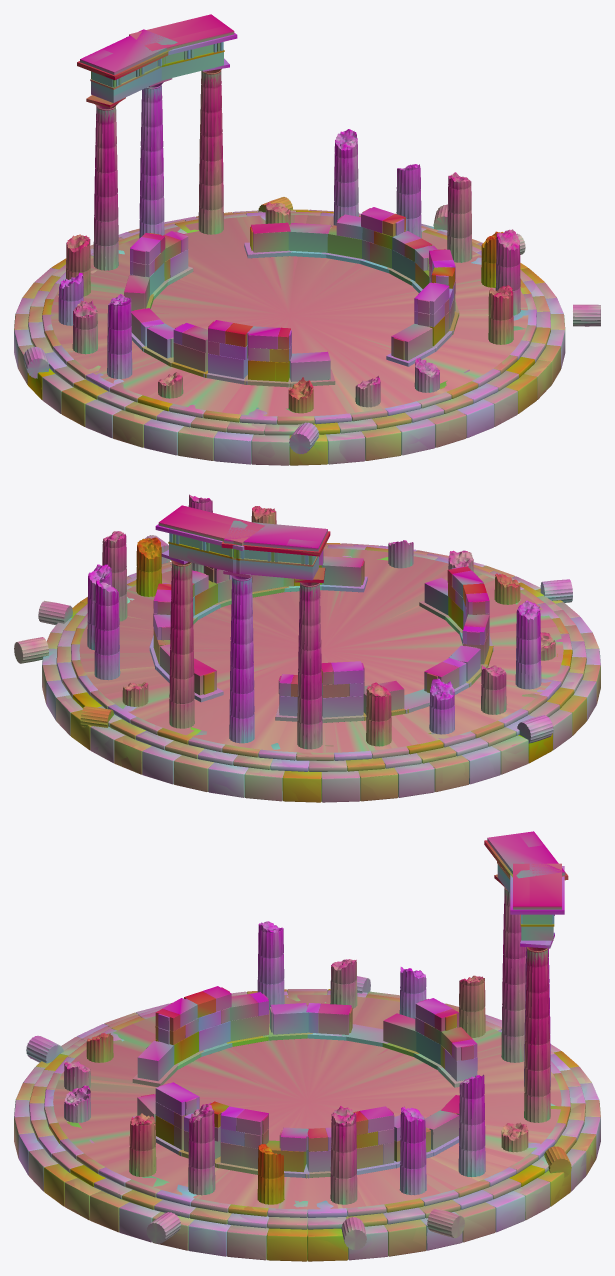
Rendered from tholos.glb.
The picture shows the model from 3 angles, top to bottom: view 1: azimuth 30°, elevation 25°; view 2: azimuth 150°, elevation 25°; view 3: azimuth 270°, elevation 25°; orthographic projection. The views are drawn at different scales.
Visible parts, largest first — view 1: Tholos, Tholos_lod; view 2: Tholos, Tholos_lod; view 3: Tholos, Tholos_lod.
Boxes of the visible parts, x1,y1,x2,y2 form: Tholos: [14, 14, 600, 465]; Tholos_lod: [14, 25, 600, 465]; Tholos: [14, 495, 600, 802]; Tholos_lod: [14, 494, 600, 802]; Tholos: [14, 833, 600, 1261]; Tholos_lod: [14, 831, 600, 1261].
Size of the model in its own units: 49 by 22.31 by 46.89.
